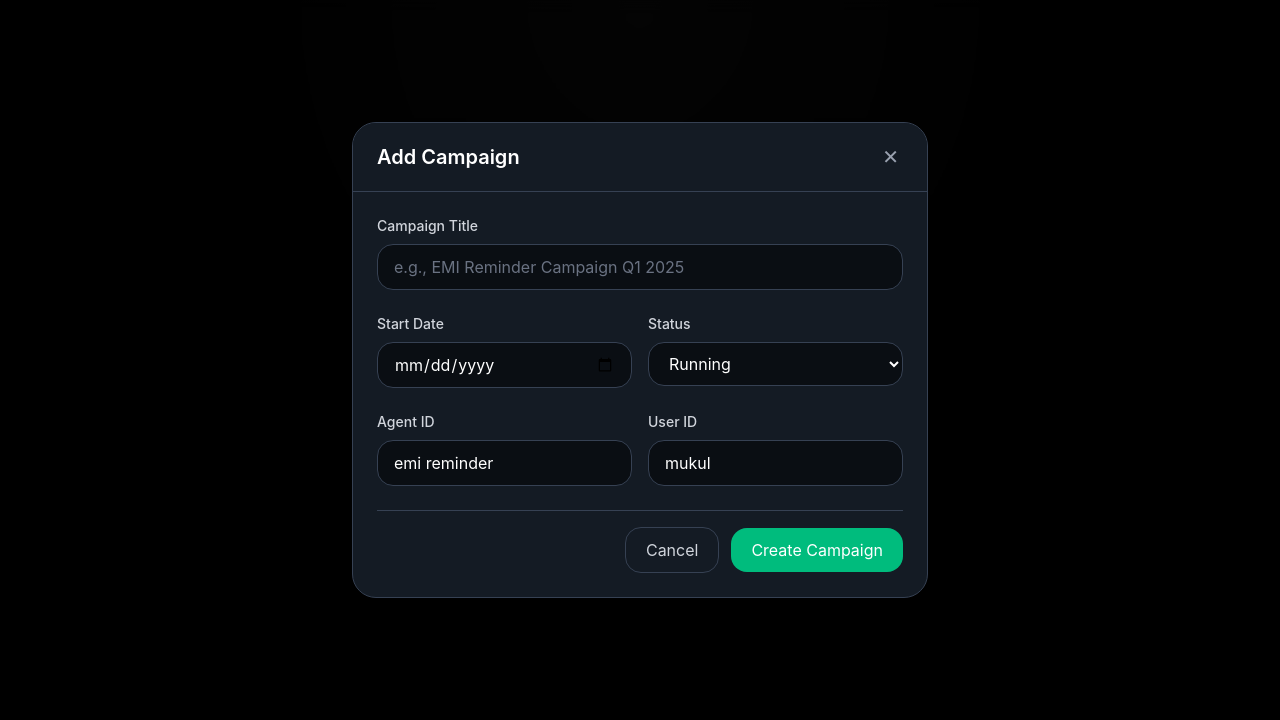
CampaignModal Component › Form Submission - Create Campaign › should disable button during submission
The image size is (1280, 720).
In the field labelled "Campaign Title": coordinates (640, 267) [377, 244, 903, 290], type "New Campaign"
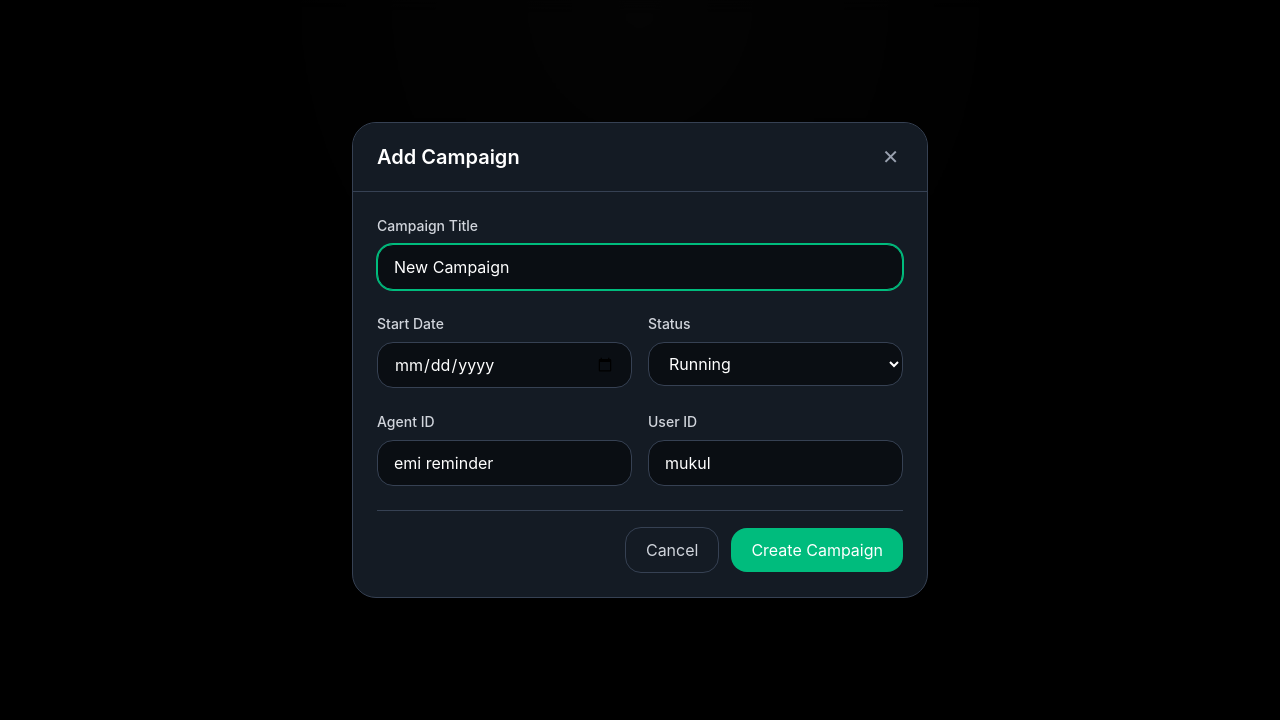
In the date field labelled "Start Date": coordinates (504, 365) [377, 342, 632, 388], type "2025-10-15"
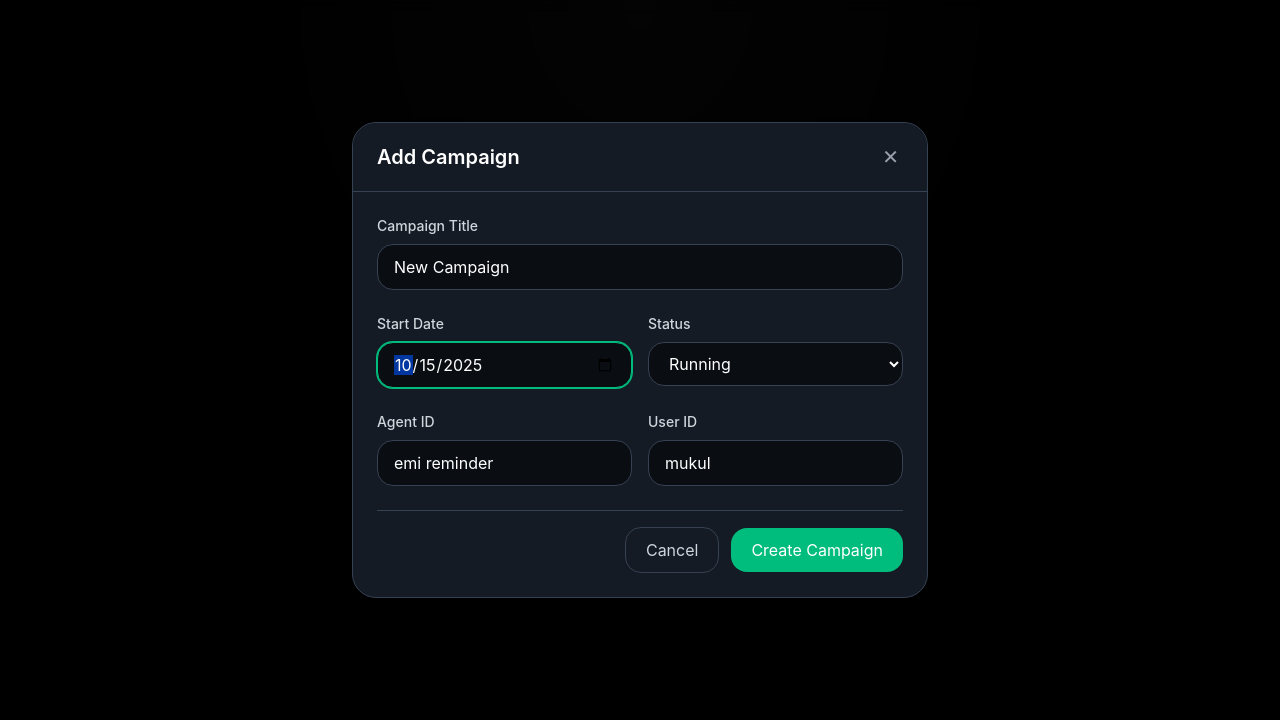
Click the button "Create Campaign": coordinates (817, 550) [731, 528, 903, 572]
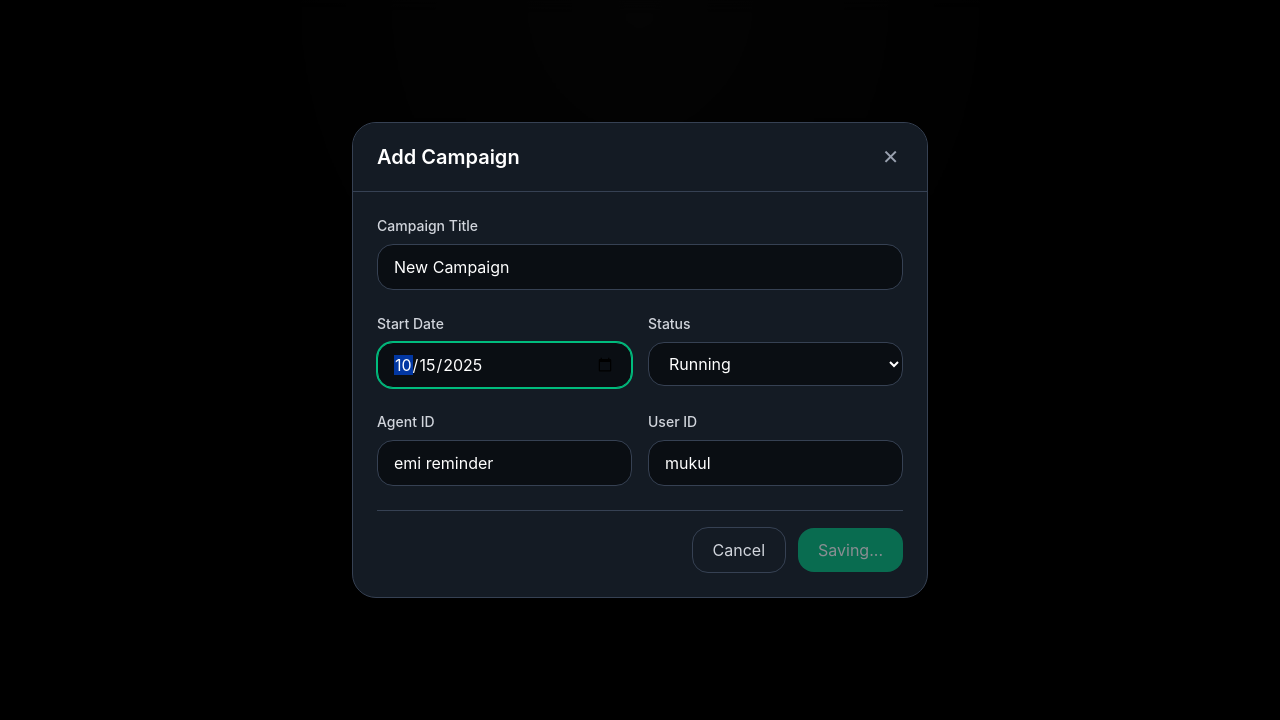
Check: the button "Saving..." is disabled, box [798, 528, 903, 572]
